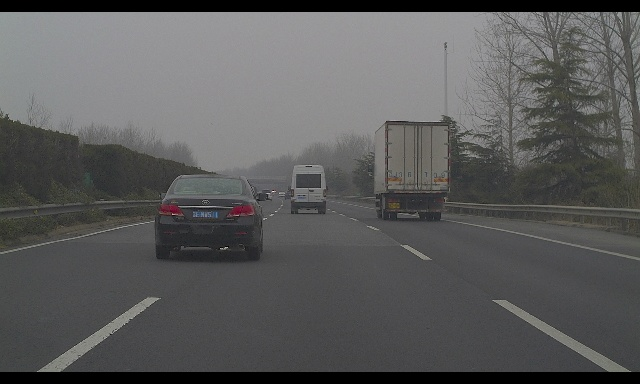car: (154, 174, 268, 260), (288, 165, 328, 214), (261, 189, 272, 201), (285, 191, 294, 200), (278, 192, 285, 197)
truck: (368, 120, 451, 220)
